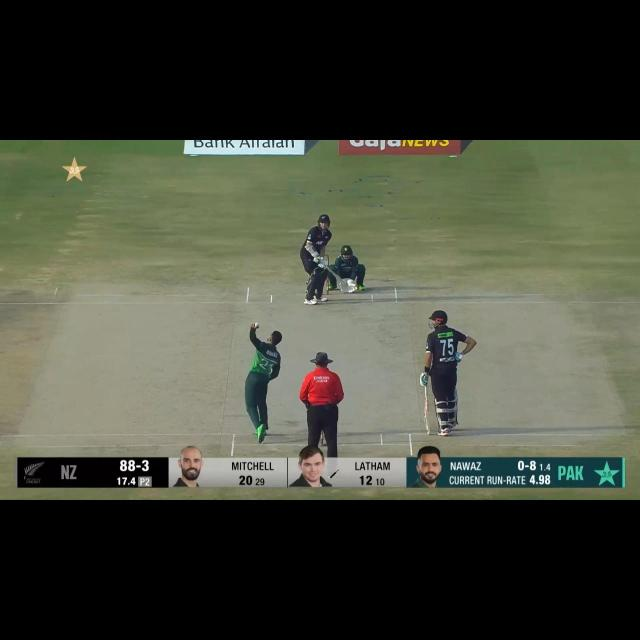bat: (324, 266, 348, 288), (422, 399, 432, 434)
toe: (337, 276, 348, 288), (423, 423, 432, 436)
